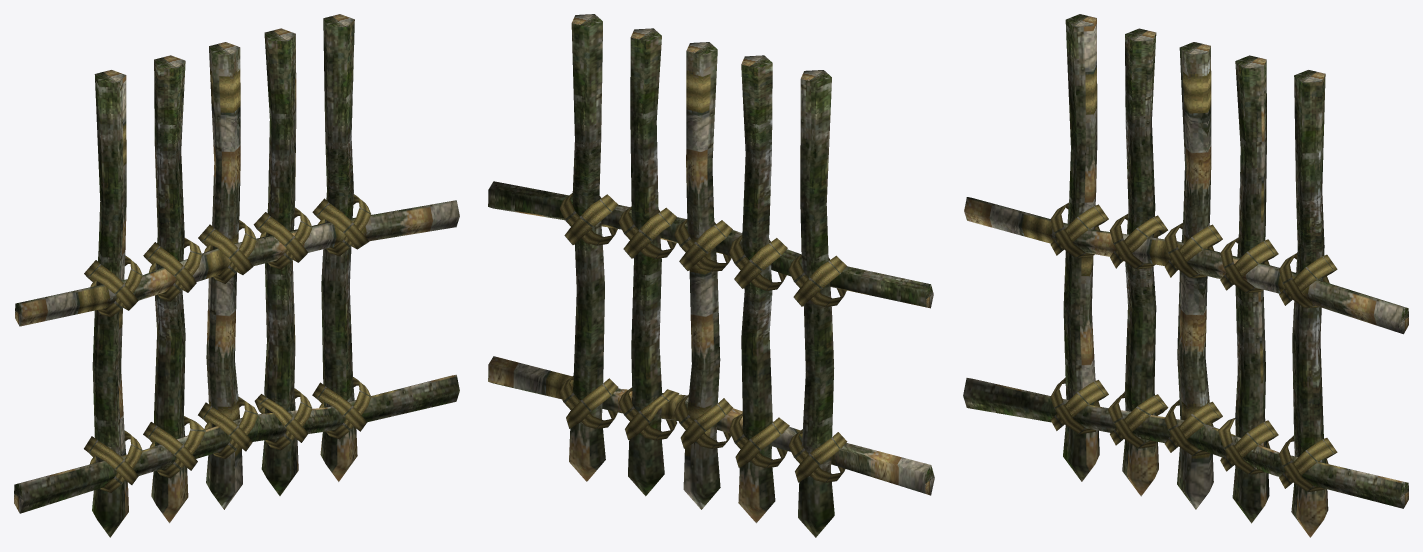
Rendered from door-stop.dae.
3 views of the same model, side by side, from view 1: azimuth 30°, elevation 25°; view 2: azimuth 150°, elevation 25°; view 3: azimuth 330°, elevation 25° (orthographic).
Visible parts, largest first — view 1: Shape 0; view 2: Shape 0; view 3: Shape 0.
Boxes of the visible parts, <box> form: Shape 0: <box>14,14,459,537</box>; Shape 0: <box>488,14,934,537</box>; Shape 0: <box>963,14,1408,537</box>.
Size of the model in its own units: 380 by 384 by 37.04.
